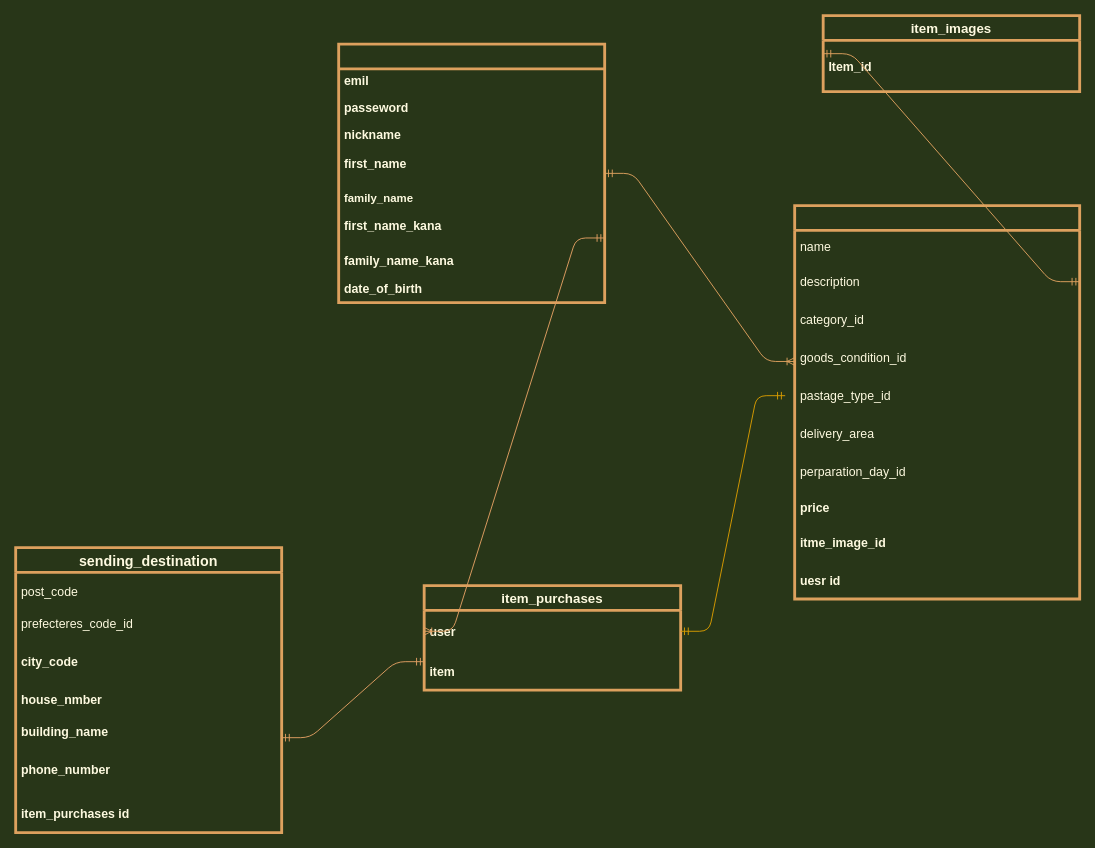
Some shapes in this 1095 by 848 pixel diagram are drawn without their labels. Each missing label, with the box of its shape:
items: (793, 204, 1081, 600)
users: (337, 42, 606, 304)
